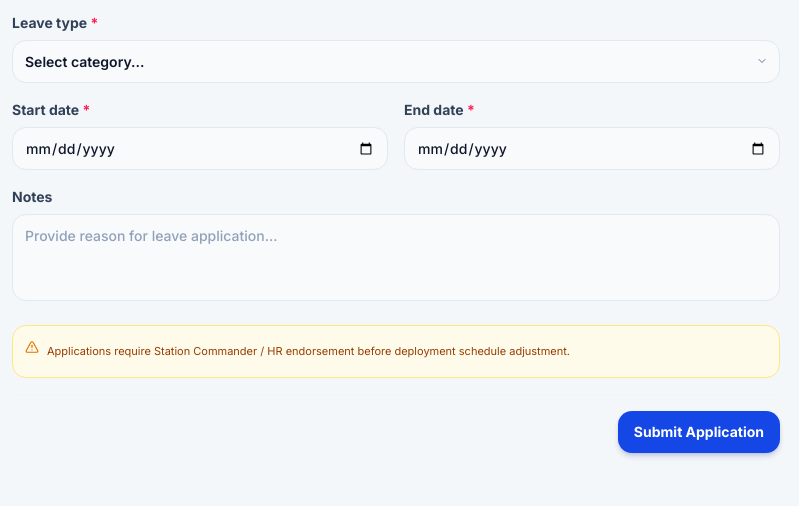
Test: EmployeeLeaveRequestForm › explains an impossible start date immediately instead of accepting year 0001
Type "0001-01-10" into the date field labelled "Start date *" at {"x": 200, "y": 149}, box [12,127,388,170]
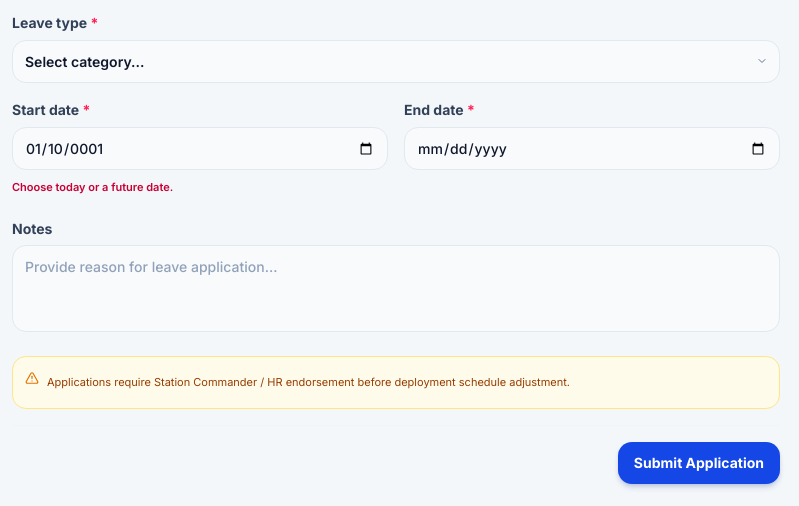
Check: the text "Choose today or a future date." is shown, box [12,180,173,194]
